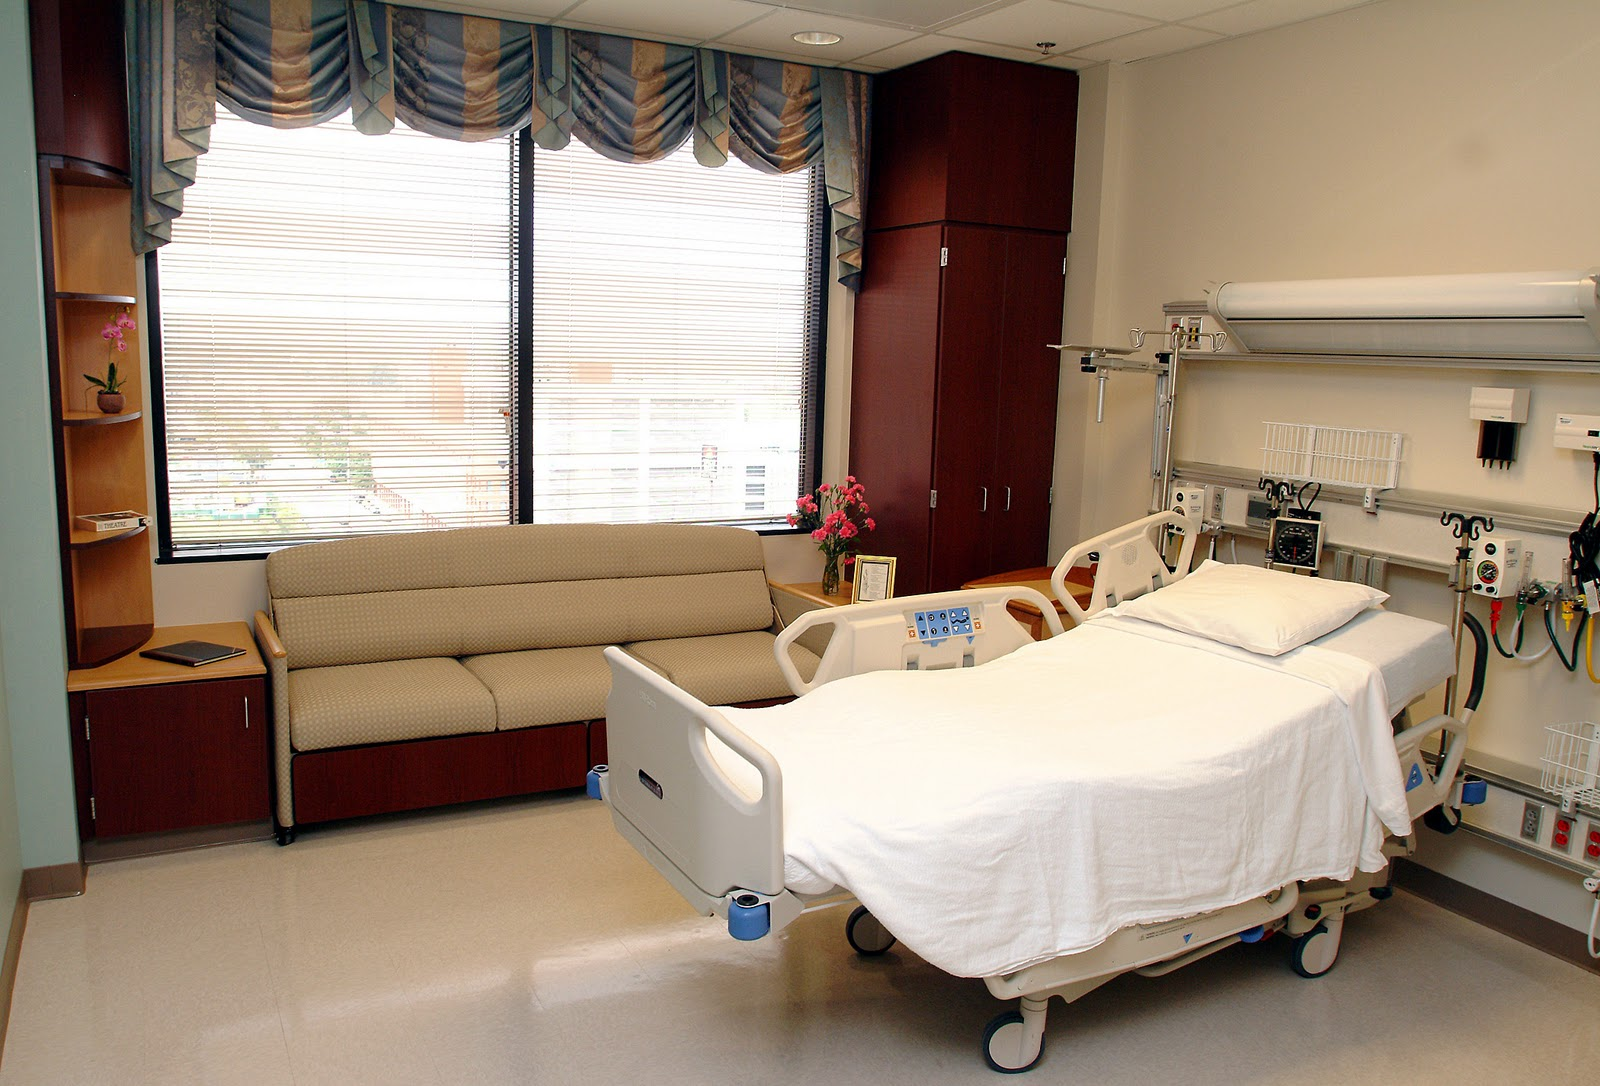hospital bed: (661, 482, 1444, 943)
